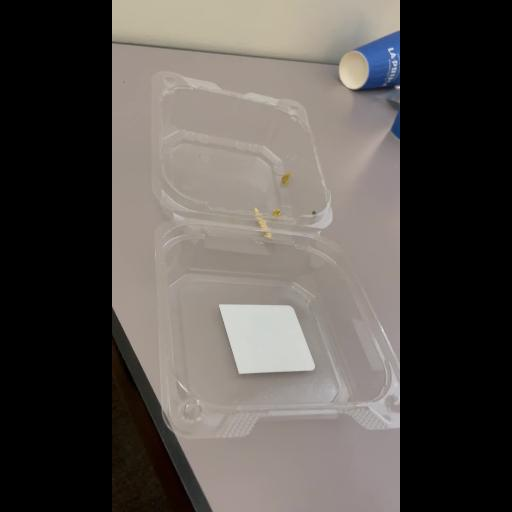small_plastic_container: (146, 53, 400, 467)
